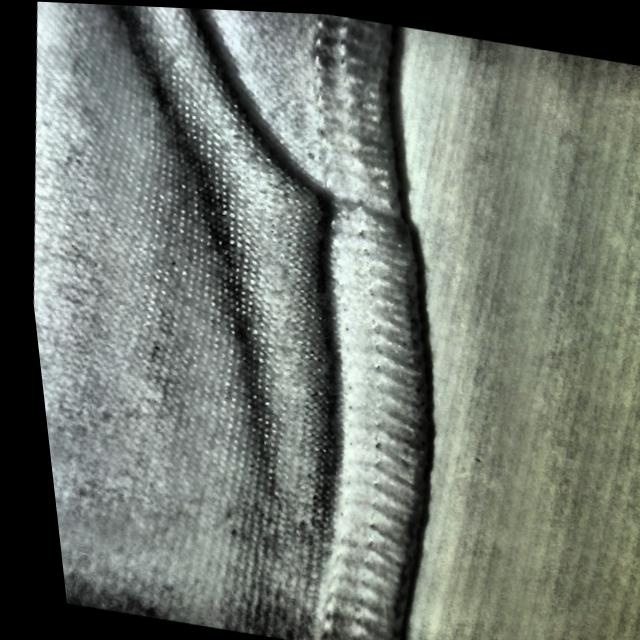seam: (150, 64, 451, 381)
